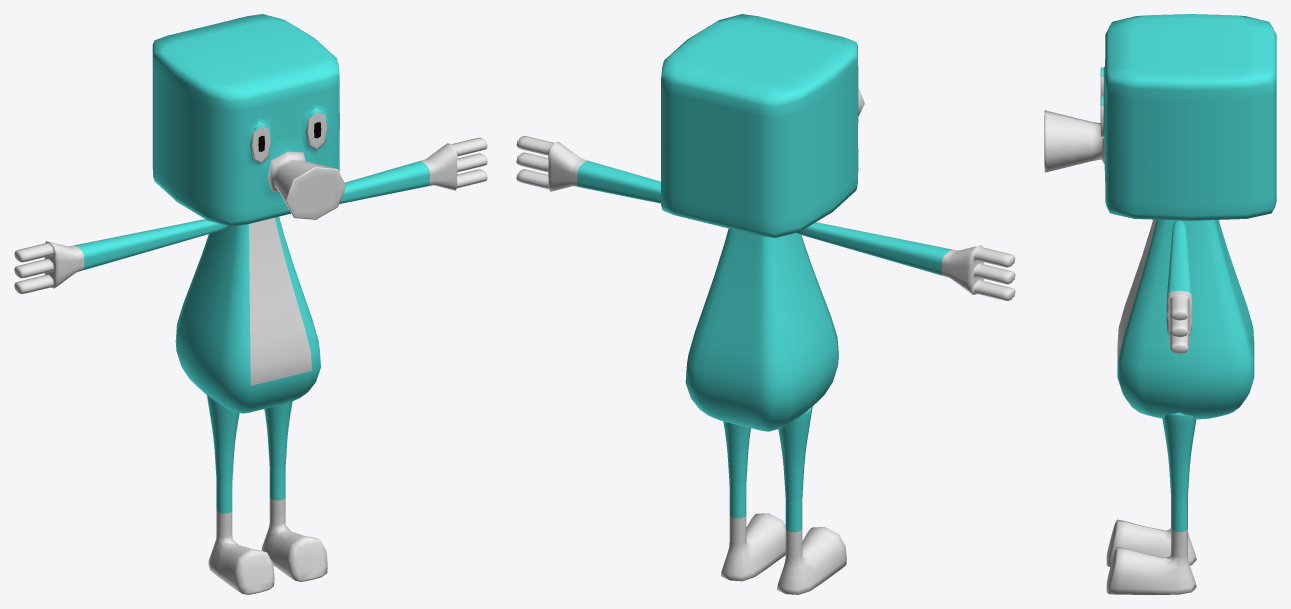
Rendered from cartoon character.fbx.
The picture shows the model from 3 angles, left to right: view 1: azimuth 30°, elevation 25°; view 2: azimuth 150°, elevation 25°; view 3: azimuth 270°, elevation 25°; orthographic projection. The views are drawn at different scales.
Visible parts, largest first — view 1: Cube; view 2: Cube; view 3: Cube.
Boxes of the visible parts, x1=… form: Cube: x1=14, y1=14, x2=487, y2=594; Cube: x1=516, y1=14, x2=1015, y2=594; Cube: x1=1044, y1=14, x2=1276, y2=594.
Bounding box in the file's own units: 183 × 189 × 75.16.
